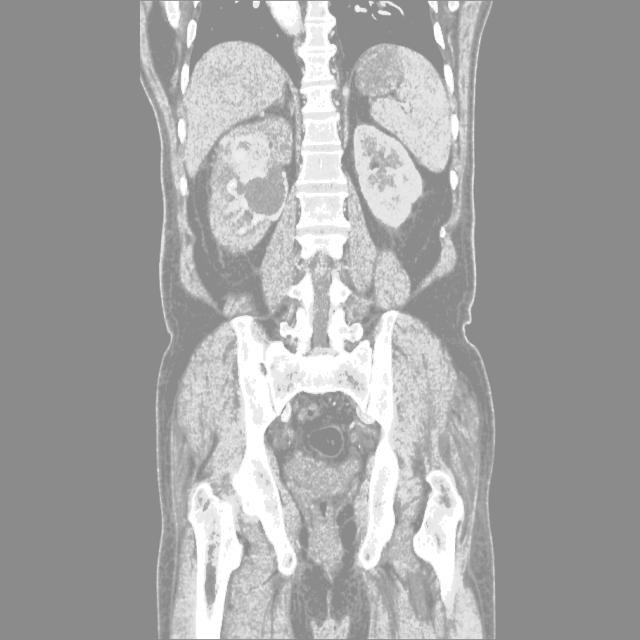TUMOR: (152, 89, 523, 316)
